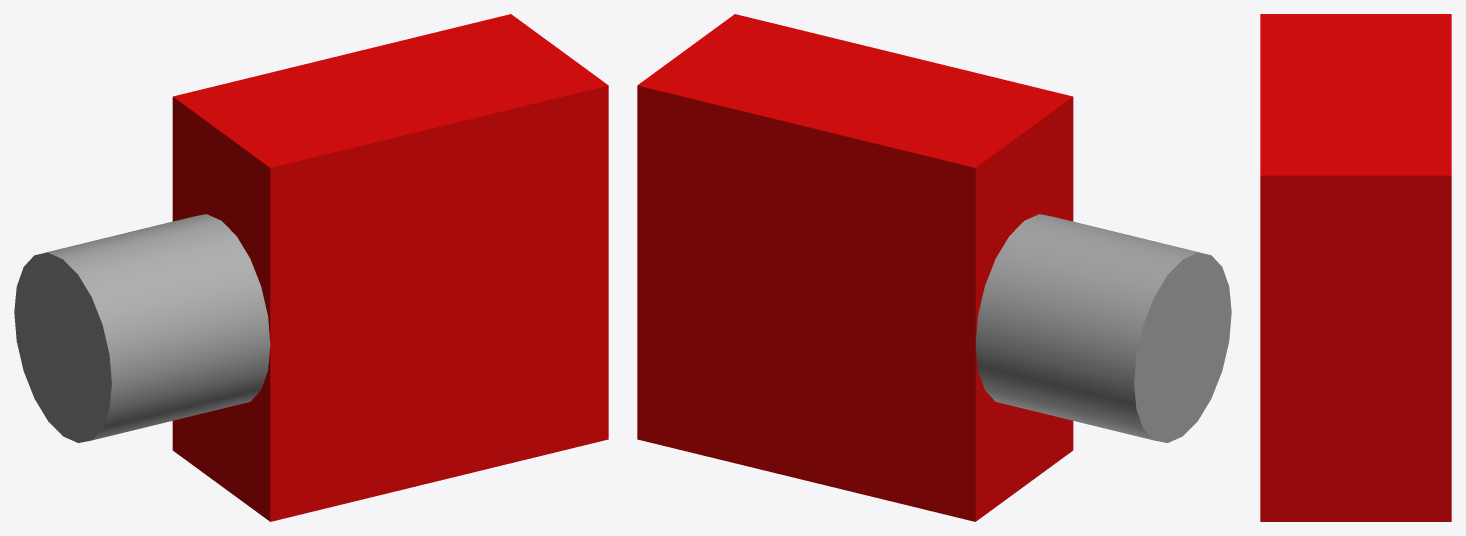
File: Enemy.fbx
3 renders of one model, left to right at view 1: azimuth 30°, elevation 25°; view 2: azimuth 150°, elevation 25°; view 3: azimuth 270°, elevation 25°, orthographic. The views are drawn at different scales.
Visible parts, largest first — view 1: polySurface4; view 2: polySurface4; view 3: polySurface4.
Boxes of the visible parts, x1,y1,x2,y2 form: polySurface4: (14, 14, 608, 521); polySurface4: (637, 14, 1231, 521); polySurface4: (1260, 14, 1451, 521).
Size of the model in its own units: 2.94 by 2 by 1.
